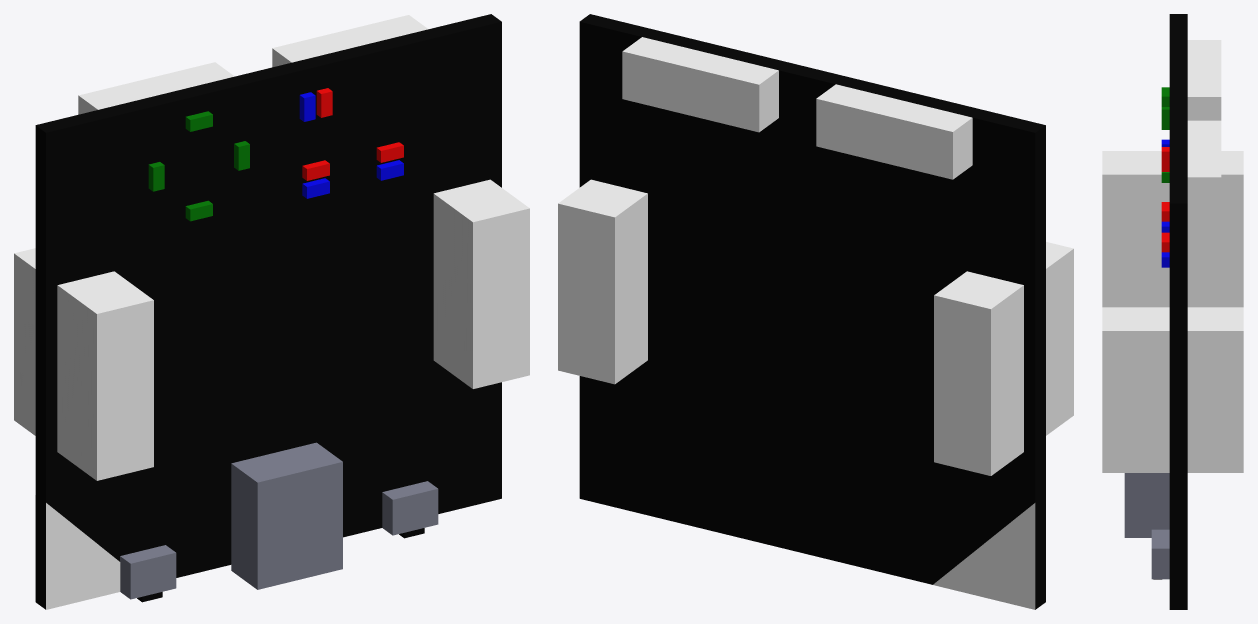
File: imu_v2.obj
3 views of the same model, side by side, from view 1: azimuth 30°, elevation 25°; view 2: azimuth 150°, elevation 25°; view 3: azimuth 270°, elevation 25° (orthographic). The views are drawn at different scales.
Bounding box in the file's own units: 2 × 2.03 × 0.63.
1 material, 1 textured.
